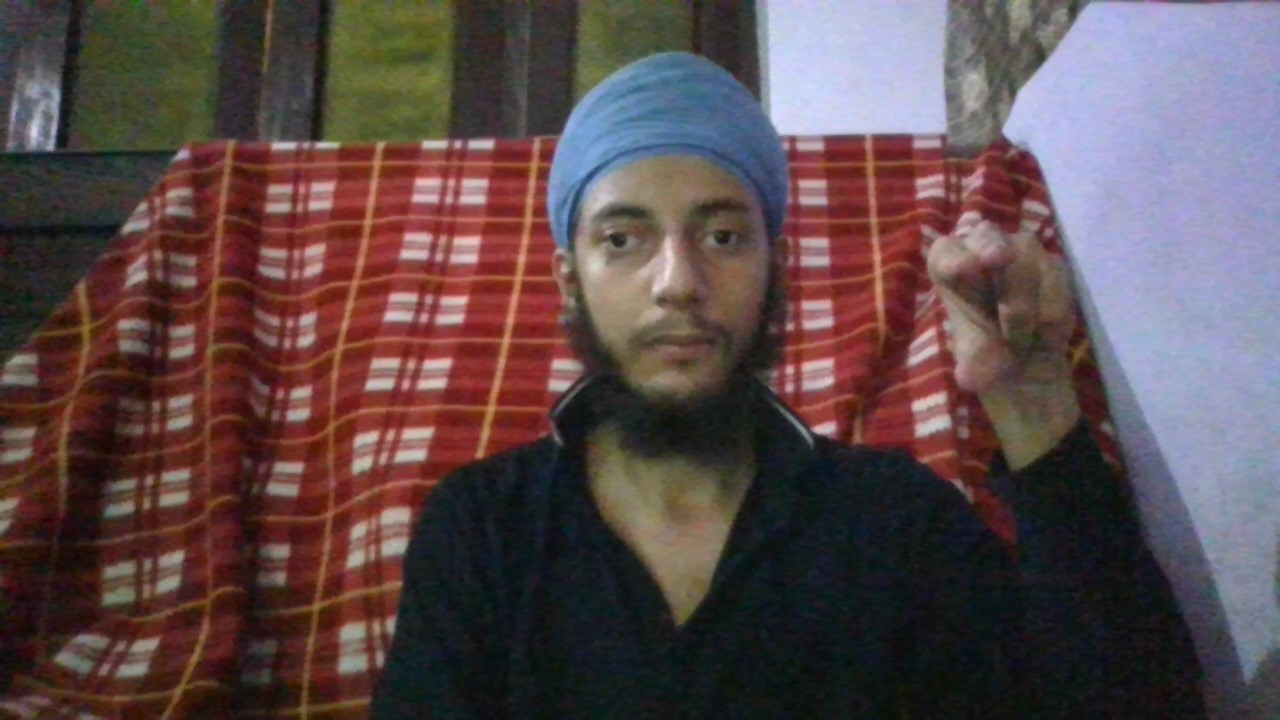No: (925, 222, 1076, 395)
